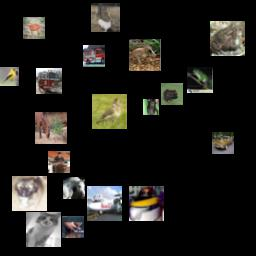airplane: (87, 186, 122, 221), (129, 186, 164, 221)
automobile: (212, 132, 234, 154)
bird: (92, 94, 127, 129), (129, 39, 161, 71), (0, 67, 19, 86)
cat: (26, 212, 61, 247)
deer: (35, 112, 67, 144), (91, 3, 120, 32), (23, 17, 45, 39), (62, 216, 84, 238)
dog: (12, 176, 47, 211), (143, 99, 159, 115)
frog: (210, 21, 245, 56), (187, 67, 213, 93), (161, 83, 183, 105)
truck: (36, 68, 62, 94), (83, 45, 105, 67)
